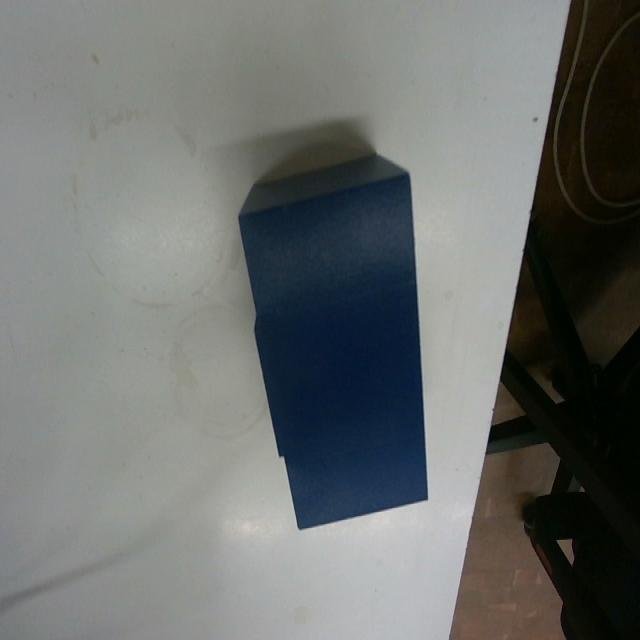Blue Cuboid: (235, 148, 431, 531)
